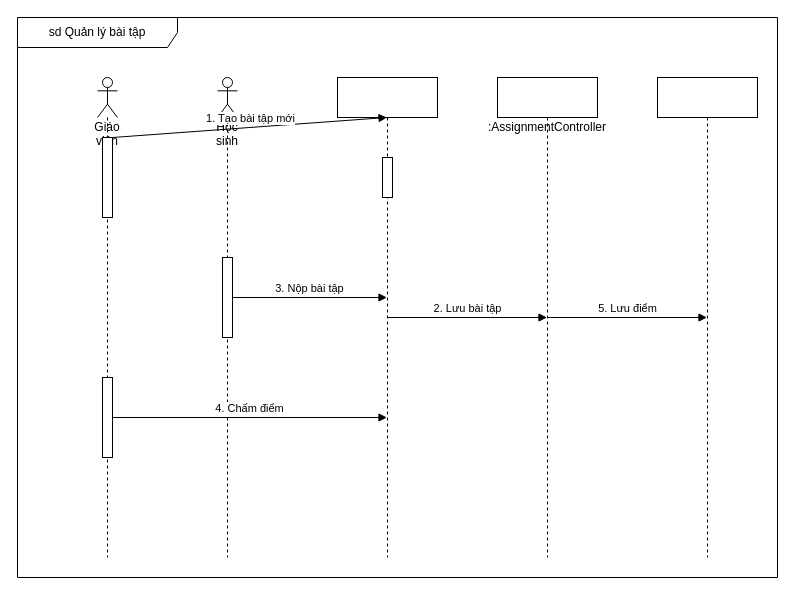
Some shapes in this 795 by 595 pixel diagram are drawn without their labels. Each missing label, with the box of its shape:
:Database: (656, 76, 758, 558)
:UI: (336, 76, 438, 558)
